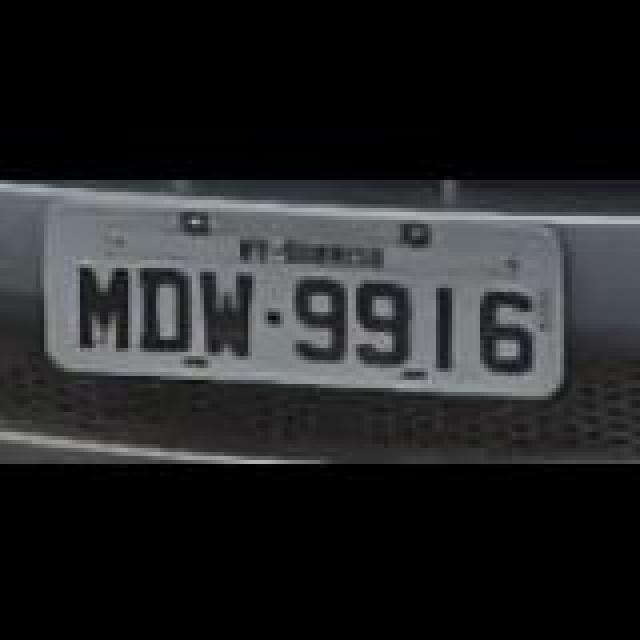1: (432, 286, 456, 370)
6: (474, 290, 542, 374)
9: (350, 278, 418, 362), (292, 274, 356, 358)
D: (130, 264, 198, 352)
M: (70, 260, 138, 348)
W: (196, 268, 260, 356)
